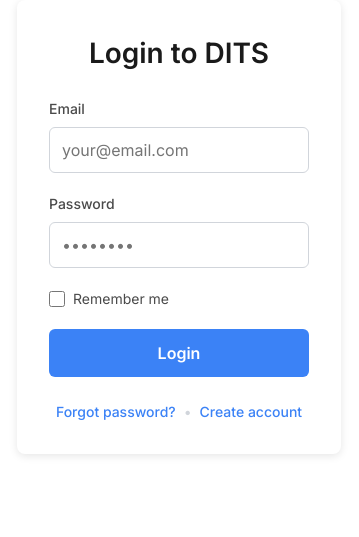
Test: LoginForm - Validation Logic › should display error when email is missing
This screenshot has width=359, height=537.
In the password field labelled "Password": [179, 245] box [49, 222, 309, 268], type "password123"
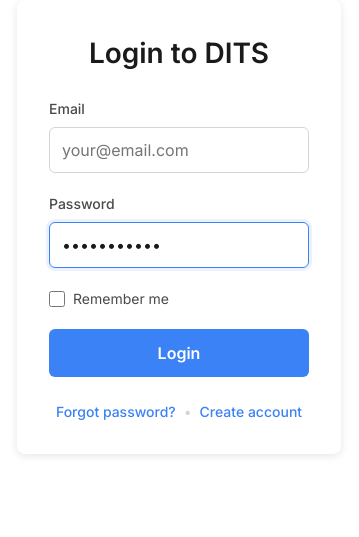
Note: Use fireEvent to bypass HTML5 validation
Submit the form "Login"
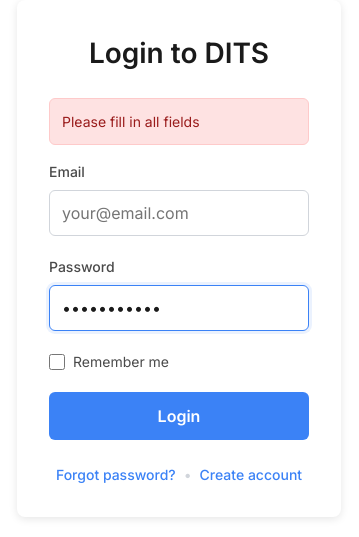
Now the message reads "Please fill in all fields", box [62, 113, 200, 130]
